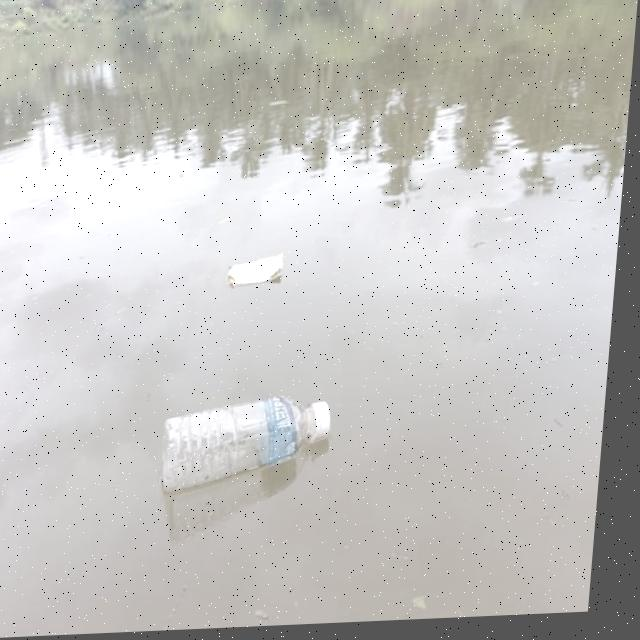paper: (220, 250, 304, 307)
waterbottle: (159, 378, 346, 506)
